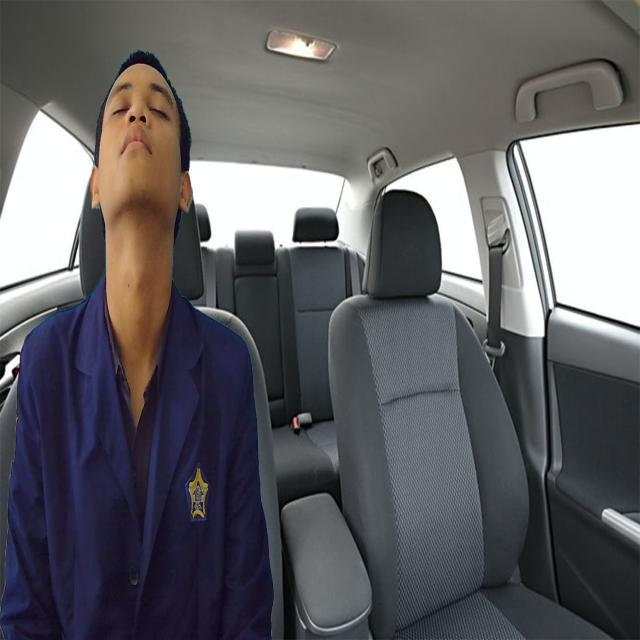no-seatbelt: (99, 44, 185, 229)
